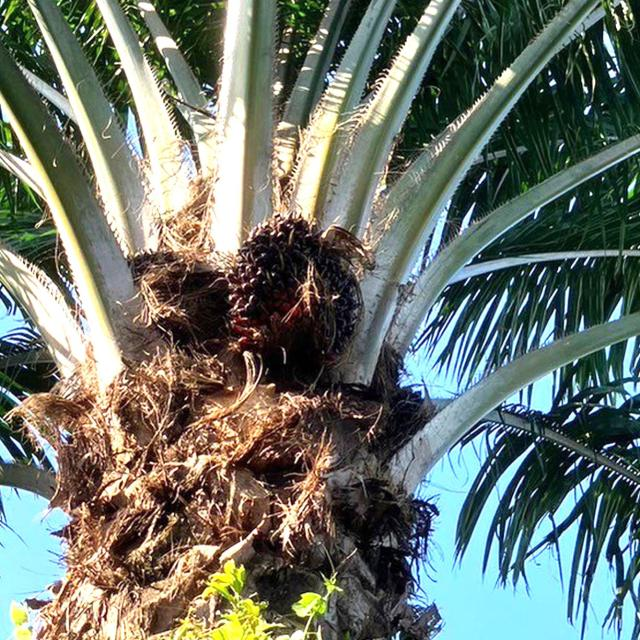ripe: (218, 203, 372, 396)
